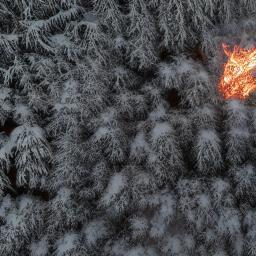Small fire: (208, 31, 256, 117)
